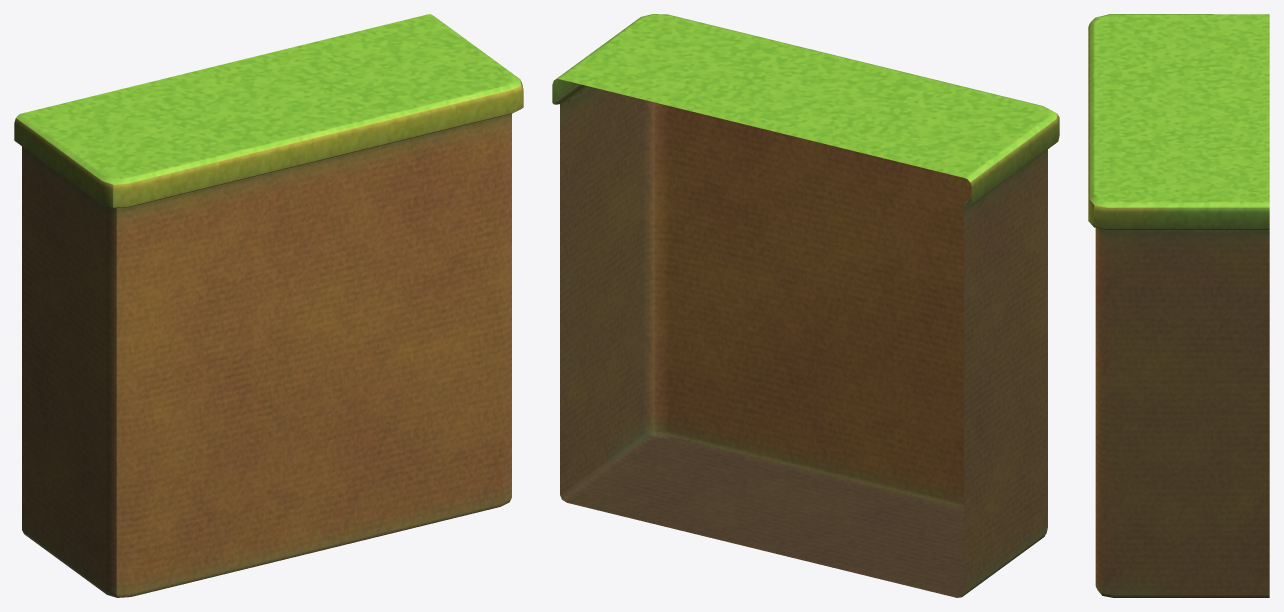
File: JimenHi_A.fbx
3 renders of one model, left to right at view 1: azimuth 30°, elevation 25°; view 2: azimuth 150°, elevation 25°; view 3: azimuth 270°, elevation 25°, orthographic. The views are drawn at different scales.
Parts seen in each view (by area): view 1: StageHi; view 2: StageHi; view 3: StageHi.
Boxes of the visible parts, x1,y1,x2,y2 form: StageHi: (14,14,523,597); StageHi: (552,14,1059,597); StageHi: (1088,14,1269,597).
Bounding box in the file's own units: 13.27 × 12.76 × 5.25.
